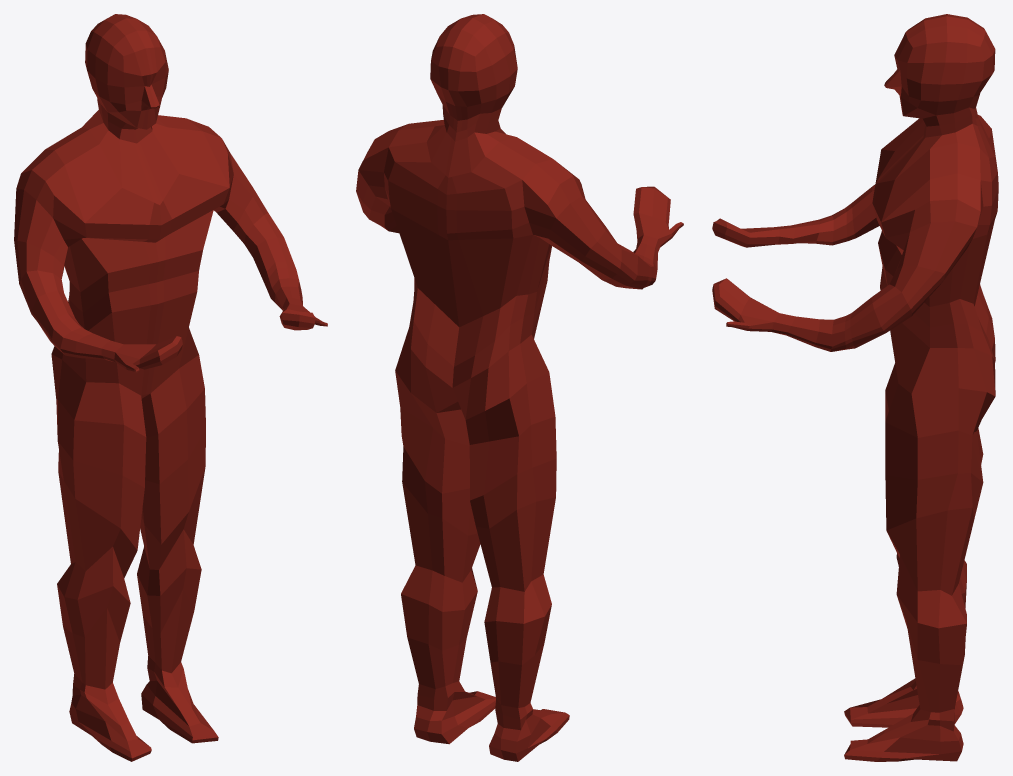
The model's file is CharacterPose1.fbx.
The picture shows the model from 3 angles, left to right: view 1: azimuth 30°, elevation 25°; view 2: azimuth 150°, elevation 25°; view 3: azimuth 270°, elevation 25°; orthographic projection. The views are drawn at different scales.
Visible parts, largest first — view 1: Cube.002; view 2: Cube.002; view 3: Cube.002.
Boxes of the visible parts, x1,y1,x2,y2 form: Cube.002: [14, 14, 327, 761]; Cube.002: [356, 14, 683, 761]; Cube.002: [712, 14, 998, 761].
Size of the model in its own units: 68.44 by 181 by 65.12.
